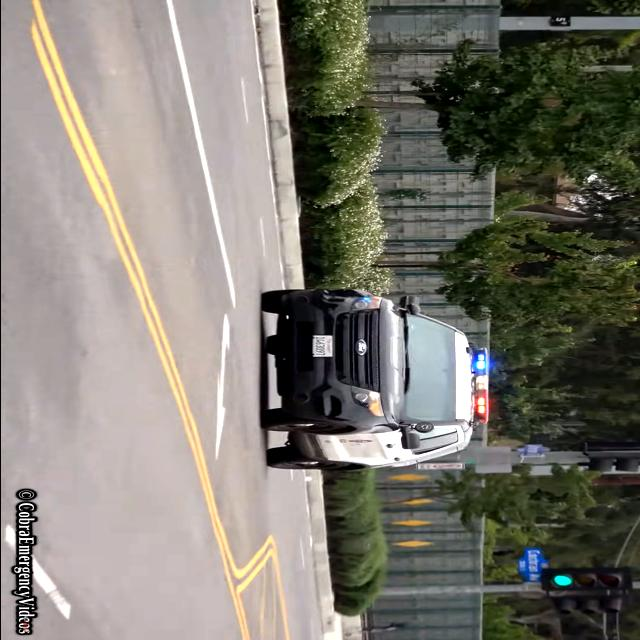emergency-vehicles: (242, 268, 504, 492)
